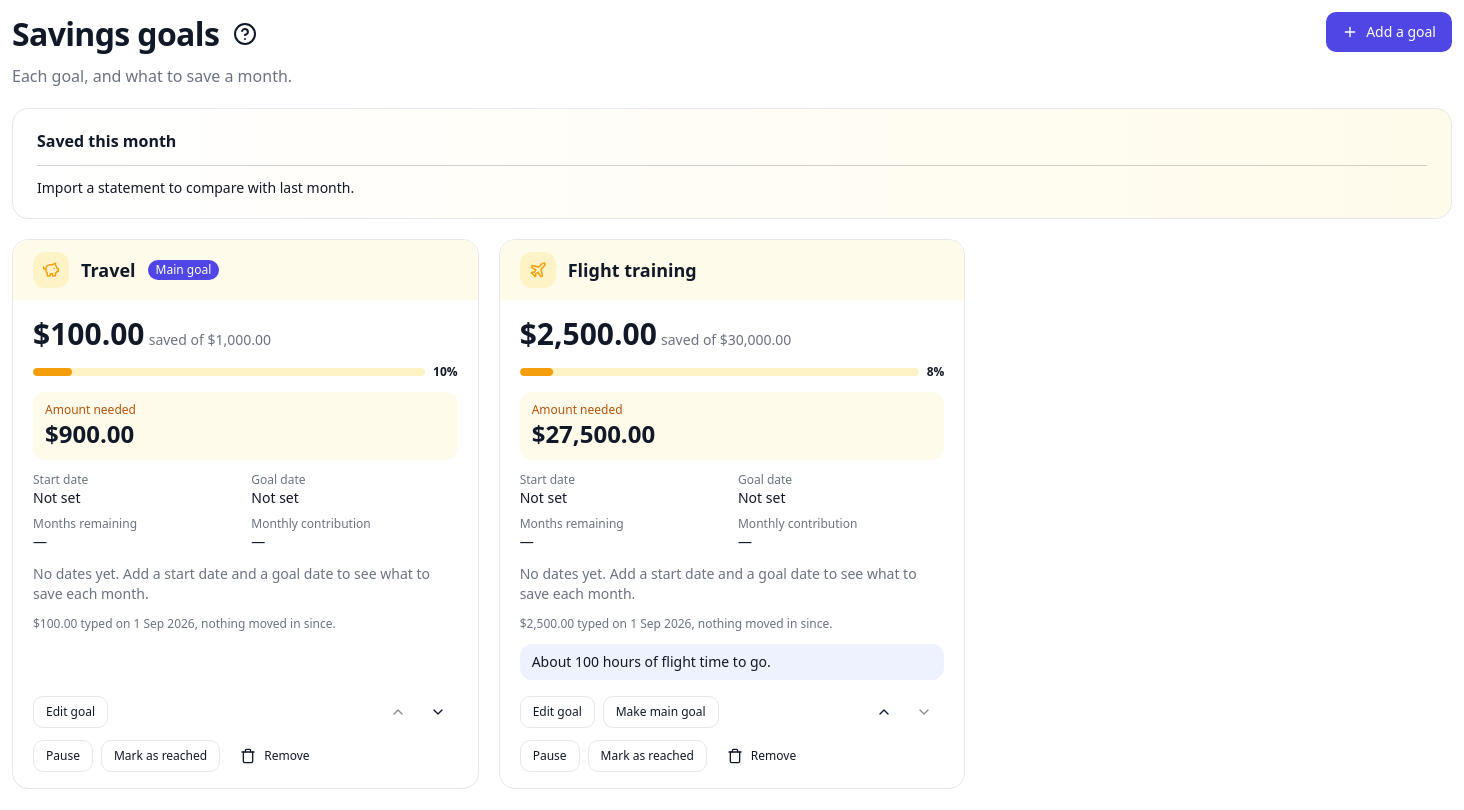
Test: Savings, pausing, finishing and resuming a goal (G1) › marks a goal reached on the day, with a word of celebration and no motion
Click the button "Mark as reached" below "About". click: (647, 756)
box: [588,740,707,772]
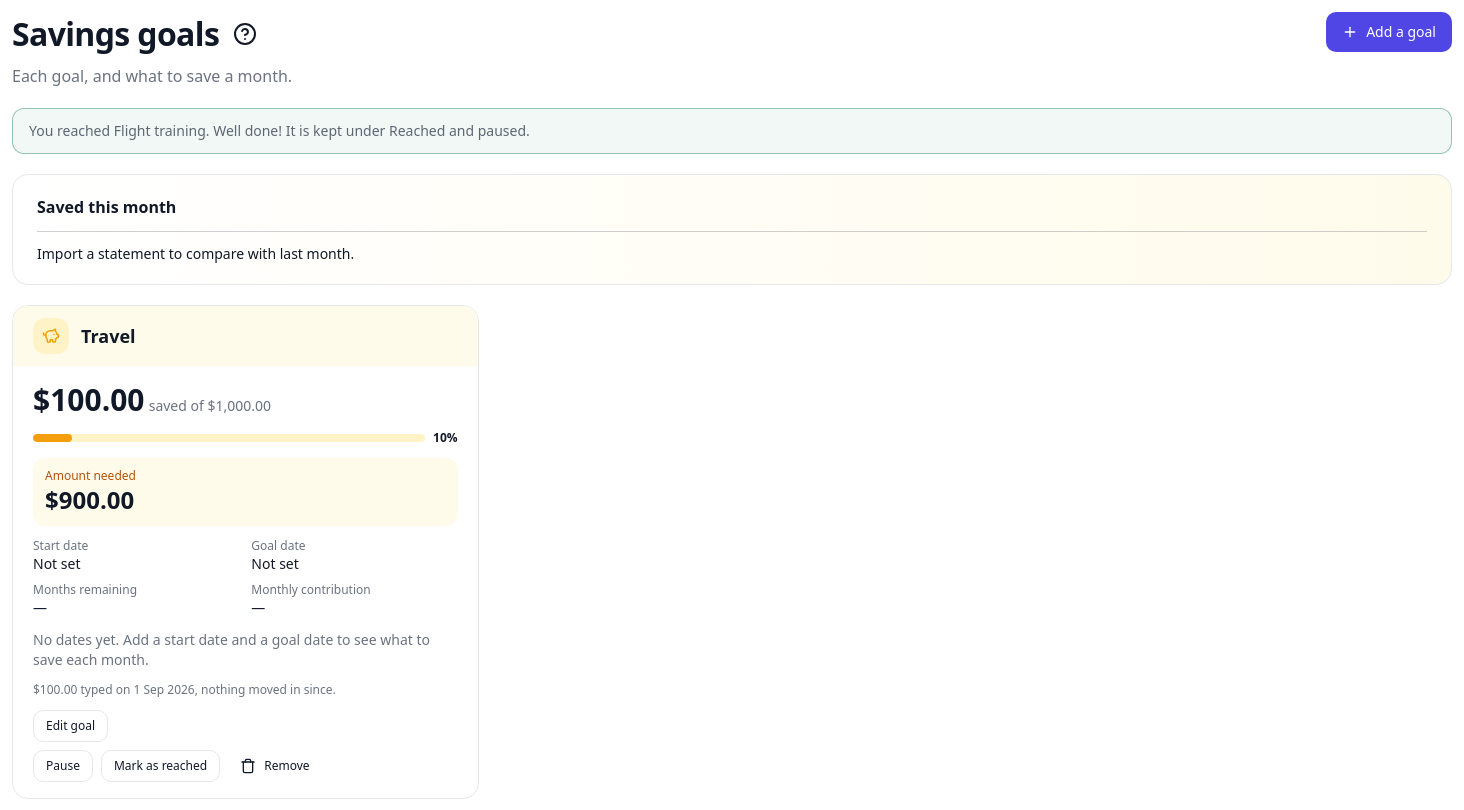
Result: the text "You reached Flight training. Well done! It is kept under Reached and paused." is shown at [29,121,530,140]
